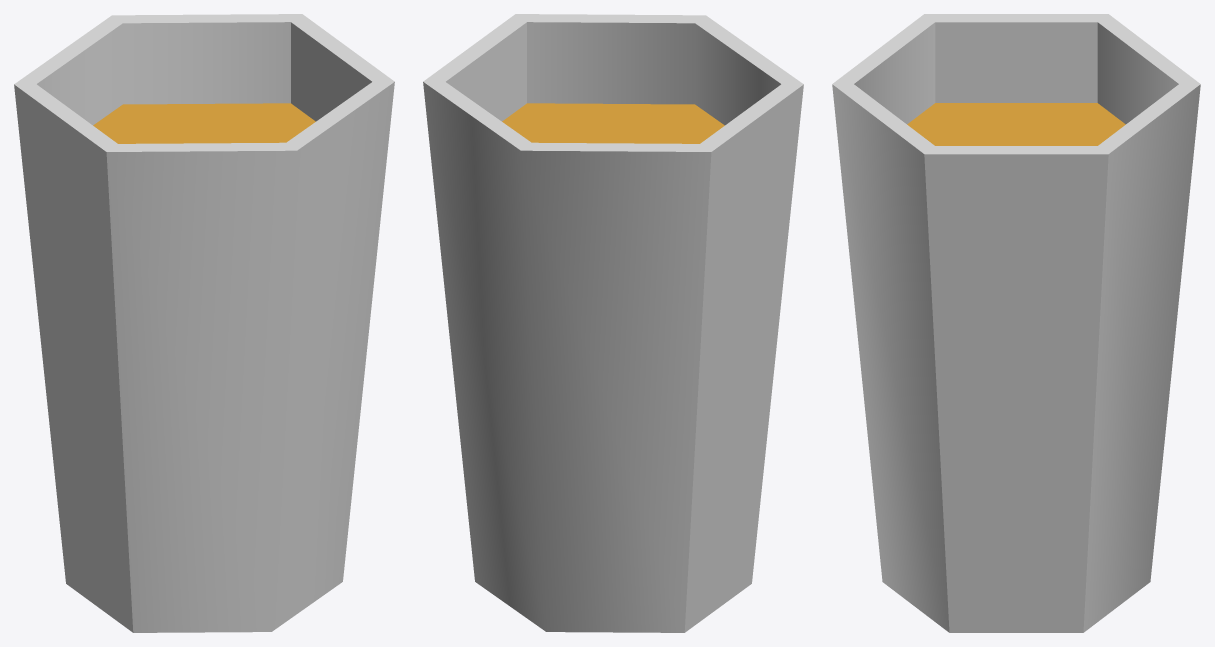
The model's file is juice_ornj.fbx.
3 renders of one model, left to right at view 1: azimuth 30°, elevation 25°; view 2: azimuth 150°, elevation 25°; view 3: azimuth 270°, elevation 25°, orthographic.
Parts seen in each view (by area): view 1: Cylinder; view 2: Cylinder; view 3: Cylinder.
Part boxes in pixels (<box>): Cylinder: <box>14,14,394,632</box>; Cylinder: <box>423,14,803,632</box>; Cylinder: <box>832,14,1200,632</box>.
Bounding box in the file's own units: 9 × 14.9 × 10.
